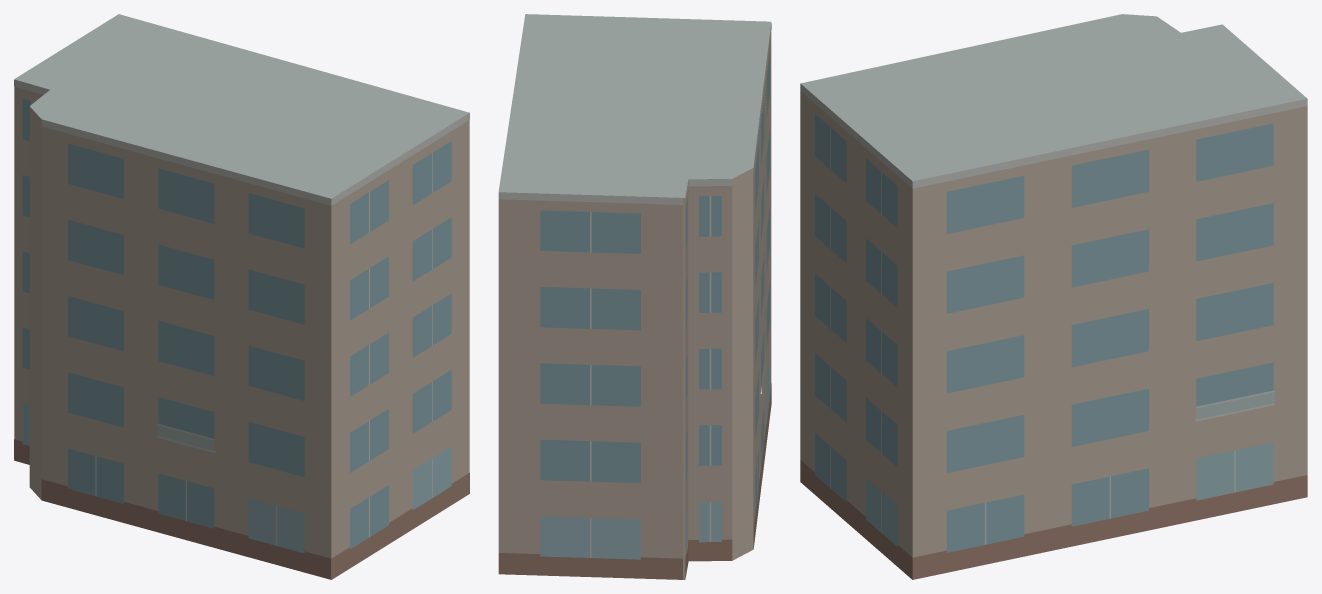
The model's file is survey-upis-32916070.glb.
3 views of the same model, side by side, from view 1: azimuth 30°, elevation 25°; view 2: azimuth 150°, elevation 25°; view 3: azimuth 270°, elevation 25° (orthographic). The views are drawn at different scales.
Visible parts, largest first — view 1: survey-upis-32916070.tmp; view 2: survey-upis-32916070.tmp; view 3: survey-upis-32916070.tmp.
Part boxes in pixels (<box>): survey-upis-32916070.tmp: <box>14,14,469,579</box>; survey-upis-32916070.tmp: <box>498,14,771,579</box>; survey-upis-32916070.tmp: <box>800,14,1307,579</box>.
Bounding box in the file's own units: 11.9 × 13.2 × 15.23.
